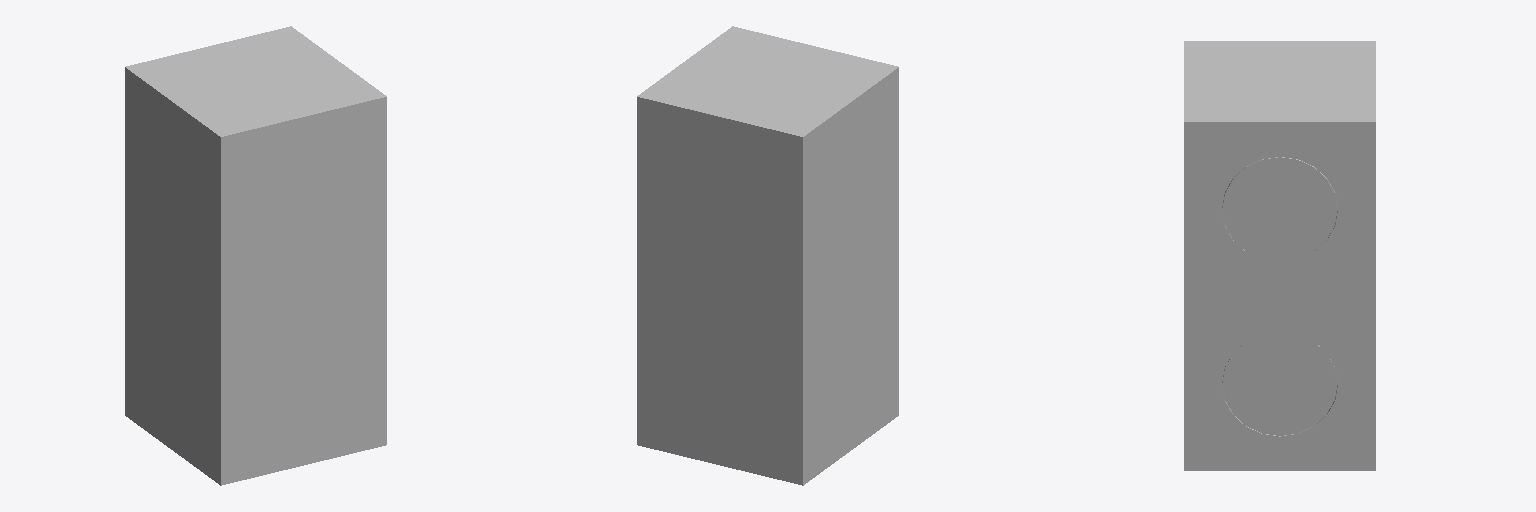
Rendered from IR sensor.obj.
3 views of the same model, side by side, from view 1: azimuth 30°, elevation 25°; view 2: azimuth 150°, elevation 25°; view 3: azimuth 270°, elevation 25° (orthographic).
Visible parts, largest first — view 1: obj_0.007; view 2: obj_0.007; view 3: obj_0.007.
Part boxes in pixels (x1,y1,x2,y2): obj_0.007: (125, 26, 386, 485); obj_0.007: (637, 26, 898, 485); obj_0.007: (1184, 41, 1375, 470).
Size of the model in its own units: 1 by 2 by 1.